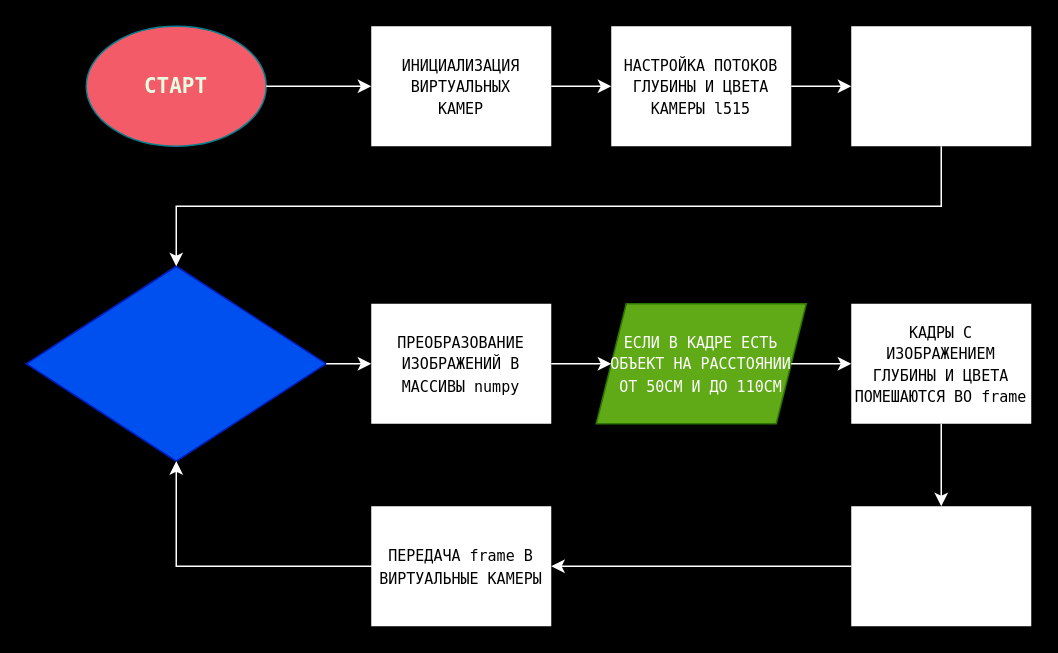
Some shapes in this 1058 by 653 pixel diagram are drawn without their labels. Each missing label, with the centre of its shape:
"В ВЫРАЖЕНИИ with ПЕРЕДАЮТСЯ ВИРУТАЛЬНЫЕ КАМЕРЫ И ЗАПУСКАЕТСЯ ЦИКЛ while" goes at point 175,363.
"ВКЛЮЧЕНИЕ ПОТОКОВ" goes at point 940,86.
"НА FRAME НАКЛАДЫВАЕТСЯ НАДПИСЬ С ПОКАЗАНИЯМИ ОТ LiDAR С ПОМОЩЬЮ CV2" goes at point 940,566.
